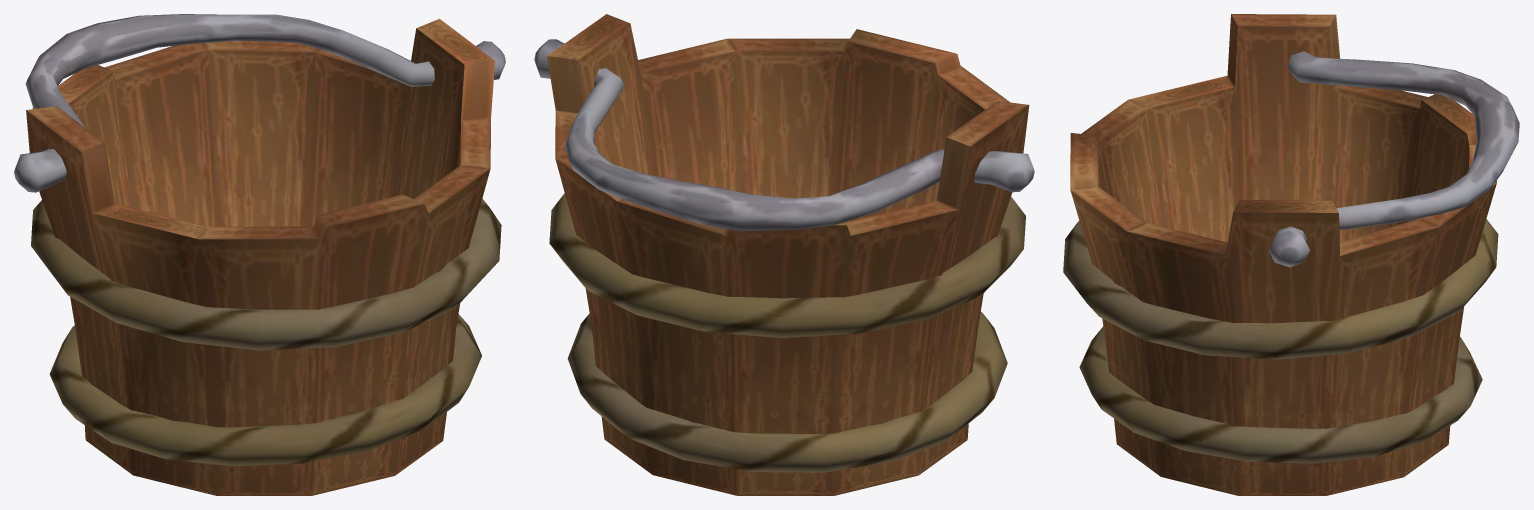
File: Bucket_Wooden_1.glb
3 renders of one model, left to right at view 1: azimuth 30°, elevation 25°; view 2: azimuth 150°, elevation 25°; view 3: azimuth 270°, elevation 25°, orthographic. The views are drawn at different scales.
Parts seen in each view (by area): view 1: Bucket_Wooden_1; view 2: Bucket_Wooden_1; view 3: Bucket_Wooden_1.
Boxes of the visible parts, <box> form: Bucket_Wooden_1: <box>14,14,505,495</box>; Bucket_Wooden_1: <box>534,14,1034,495</box>; Bucket_Wooden_1: <box>1063,14,1519,495</box>.
Bounding box in the file's own units: 0.4339 × 0.2928 × 0.3835.
2 materials, 2 textured.
